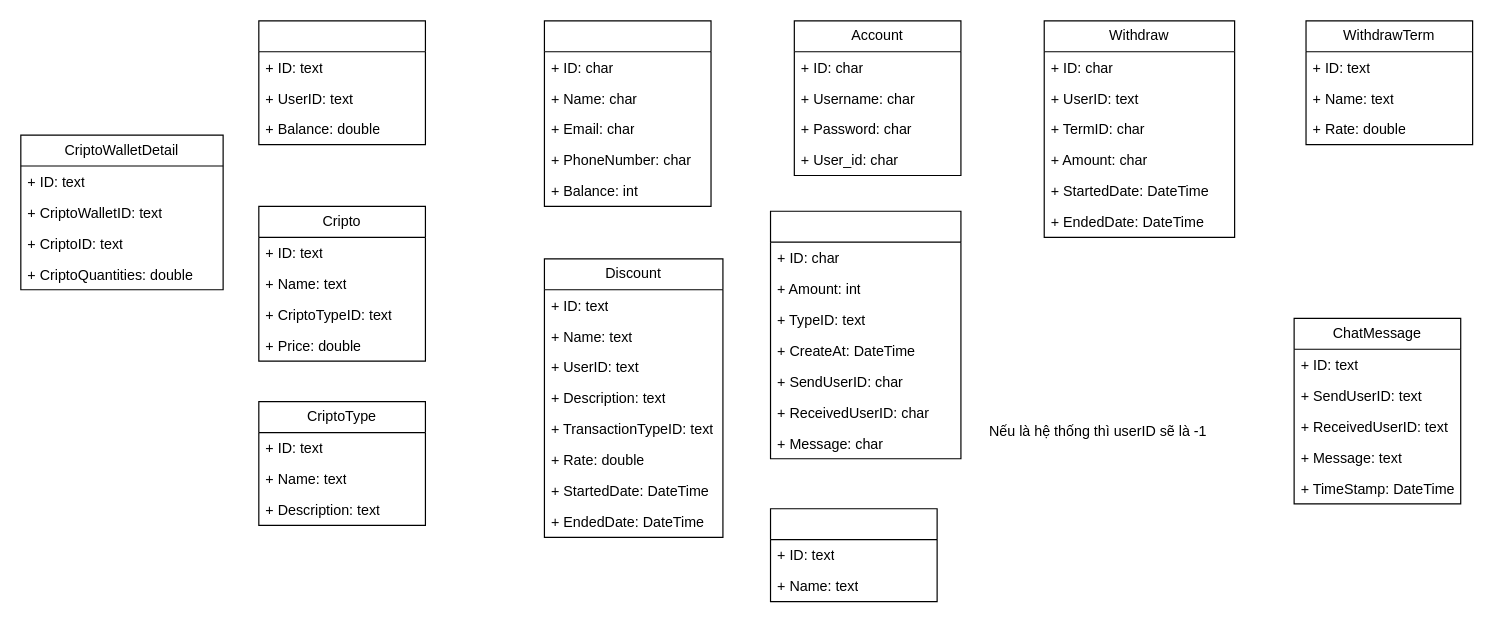
The diagram is 1493 pixels wide and 626 high, and some of its shapes have lost their labels. Each missing label, with the box of its shape:
CriptoWallet: (258, 20, 425, 145)
Transactions: (769, 210, 961, 459)
TransactionType: (769, 508, 937, 602)
User: (543, 20, 711, 206)
